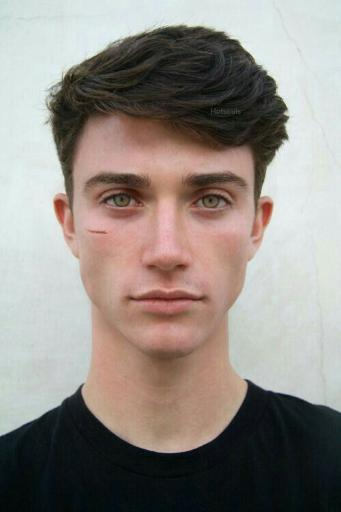left_eye: (191, 194, 235, 217)
left_lip_corner: (196, 293, 211, 310)
right_eye: (98, 193, 145, 217)
right_lip_corner: (125, 292, 140, 311)
